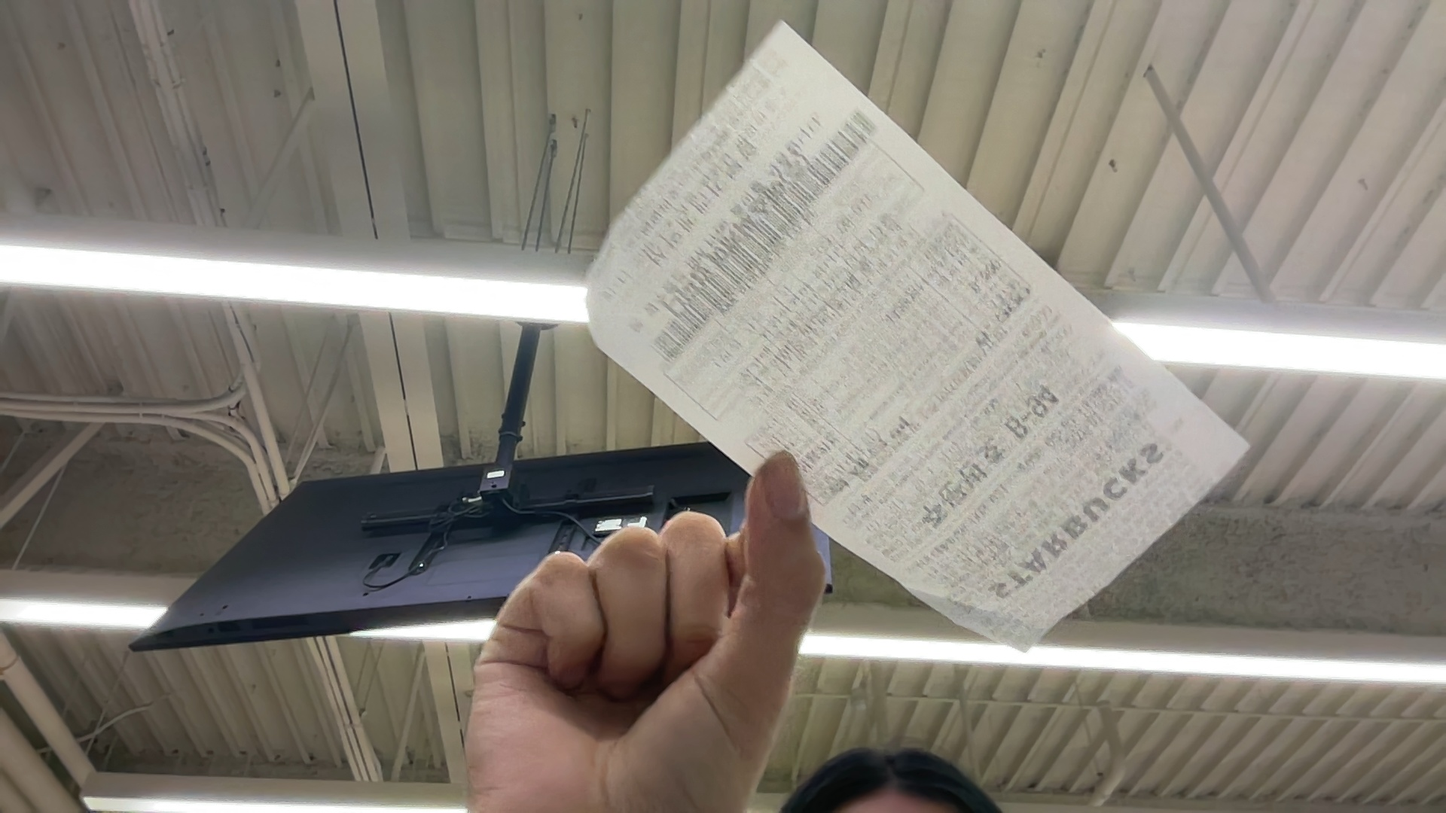Paper: (1111, 318, 1433, 378)
